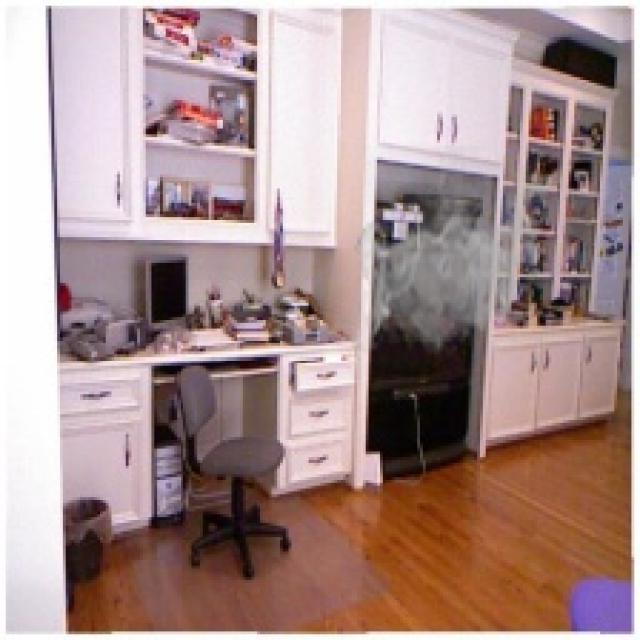Smoke: (352, 146, 554, 357)
